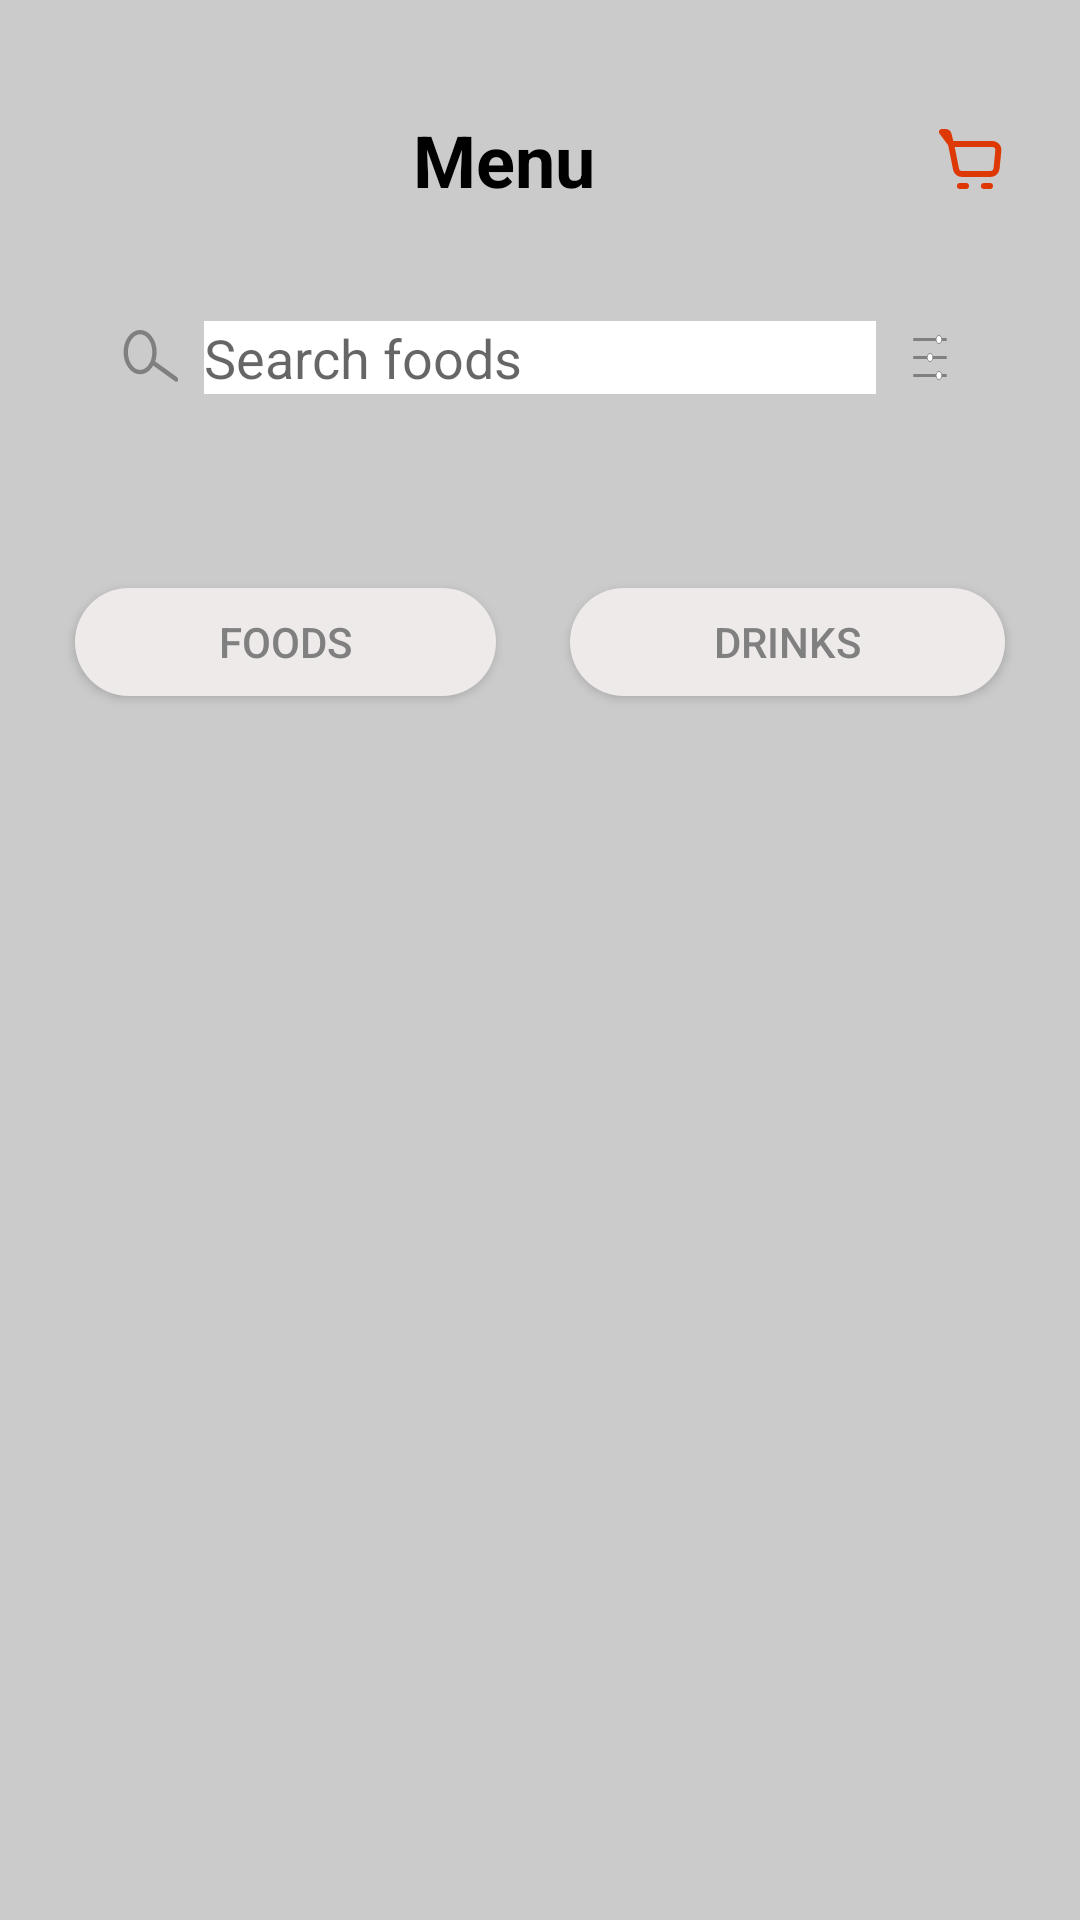

Icon bounding boxes for this 1080 x 1920 phone screenshot, format (x1,y1,x2,y2):
cart: (939,129,1002,189)
filter: (913,335,947,380)
